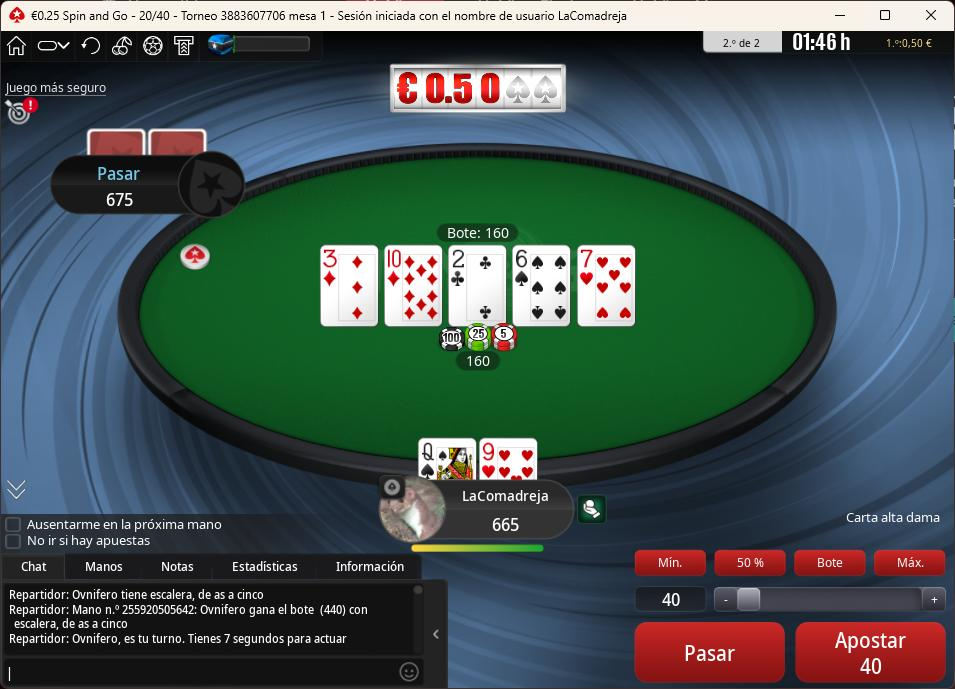ButtonBet: (793, 619, 948, 687)
ButtonCall: (626, 616, 785, 687)
ButtonCheck: (632, 619, 787, 684)
ButtonMaxRaise: (872, 547, 946, 576)
ButtonMinRaise: (634, 548, 708, 579)
ButtonPotRaise: (793, 546, 869, 577)
ButtonRaise: (789, 617, 952, 687)
Dealer: (178, 237, 216, 273)
HiddenCards: (86, 127, 206, 157)
Player: (49, 152, 245, 220)
PlayerChips: (480, 519, 528, 537), (99, 192, 141, 209)
Pot: (440, 219, 521, 245)
PrincipalCards: (417, 437, 539, 480)
PrincipalCards1: (417, 437, 481, 484)
PrincipalCards2: (479, 436, 543, 482)
PrincipalPlayer: (378, 474, 578, 542)
ShowedCards: (319, 241, 638, 330)
ShowedCards1: (319, 246, 384, 331)
ShowedCards2: (385, 246, 446, 330)
ShowedCards3: (447, 244, 509, 327)
ShowedCards4: (511, 246, 572, 329)
ShowedCards5: (571, 246, 638, 331)
SmallBigBlind: (129, 6, 178, 26)
TablePot: (440, 324, 524, 369)
